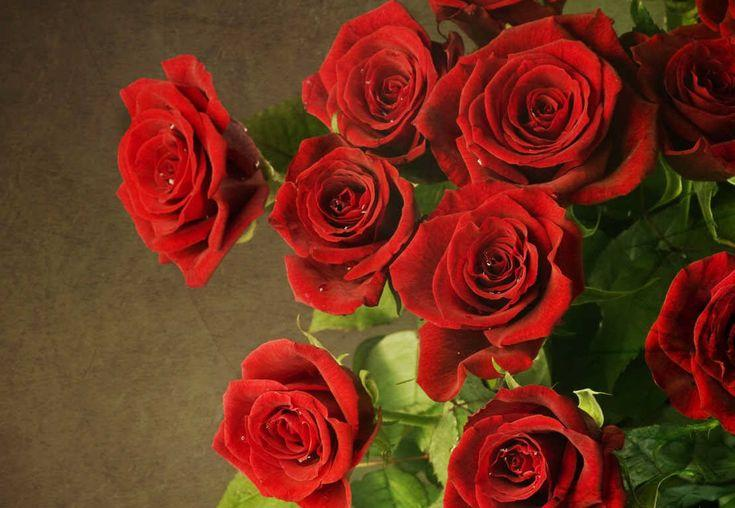rose: (115, 0, 735, 508)
